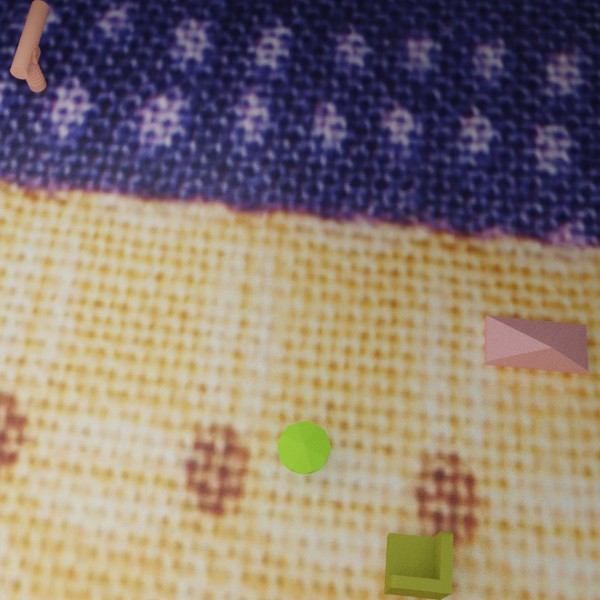lego: (484, 315, 588, 374), (383, 531, 453, 600), (10, 0, 49, 91), (276, 420, 331, 474)
